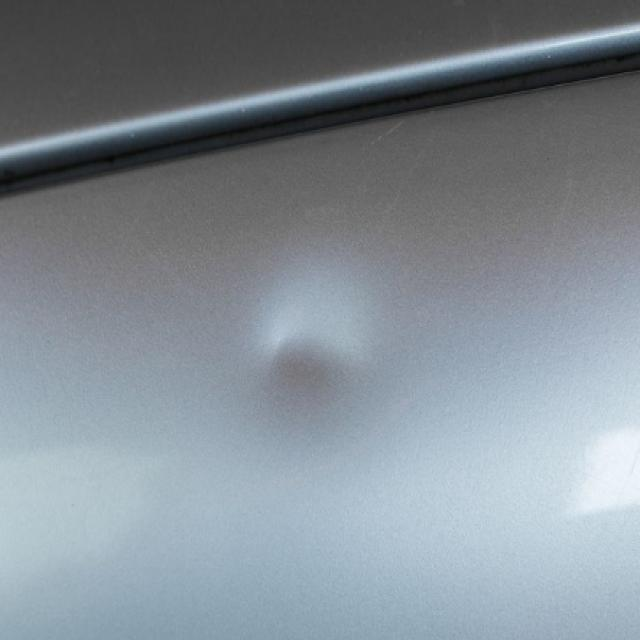dents: (233, 269, 368, 447)
